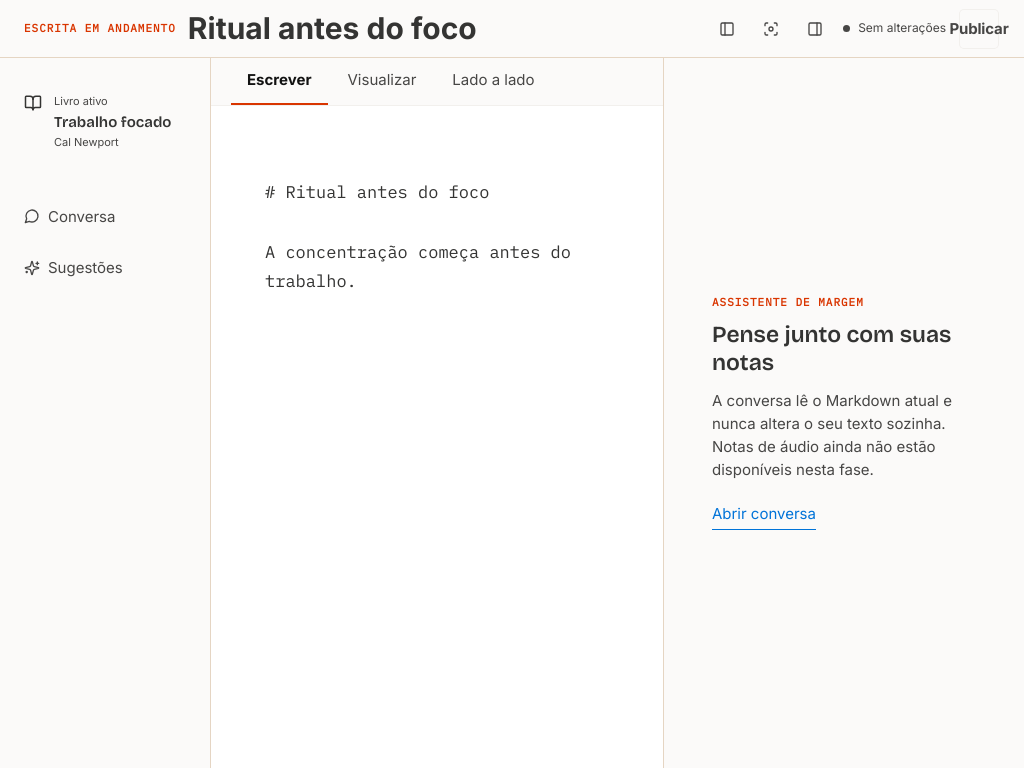
Test: mantém uma conversa única e não oferece áudio nesta fase
This screenshot has width=1024, height=768.
Click the button "Conversa": (105, 216) [12,195,198,238]
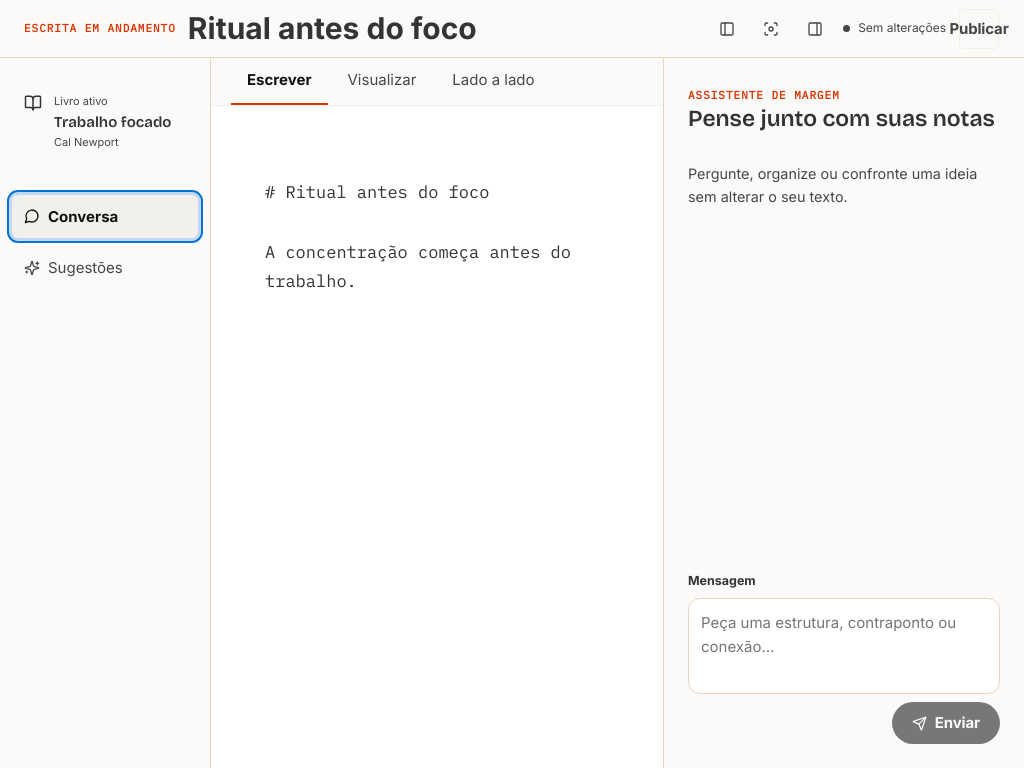
Expected: the element named "Conversa sobre a escrita" is shown, [688,165,977,204]
